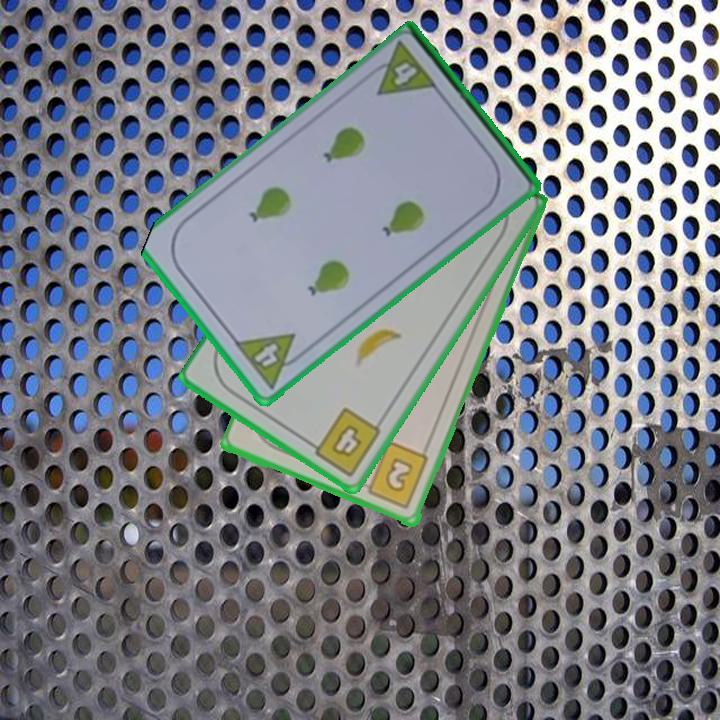2b: (356, 439, 432, 512)
4b: (303, 404, 384, 480)
4p: (231, 329, 311, 392), (362, 39, 440, 99)
